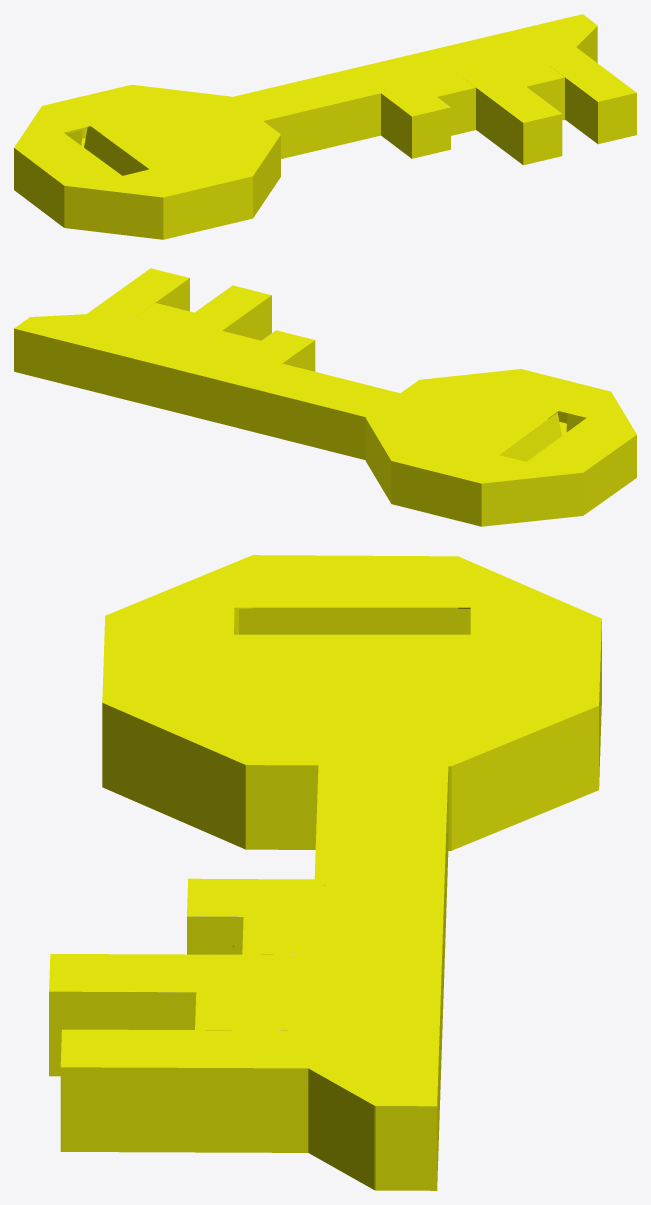
File: key1.glb
3 views of the same model, one above another, from view 1: azimuth 30°, elevation 25°; view 2: azimuth 150°, elevation 25°; view 3: azimuth 270°, elevation 25° (orthographic). The views are drawn at different scales.
Visible parts, largest first — view 1: Cylinder; view 2: Cylinder; view 3: Cylinder.
Part boxes in pixels (x1,y1,x2,y2): Cylinder: [14, 14, 636, 239]; Cylinder: [14, 268, 636, 526]; Cylinder: [49, 555, 601, 1190].
Size of the model in its own units: 1.09 by 0.0784 by 0.4642.
Materials: 1 (1 with a texture image).
